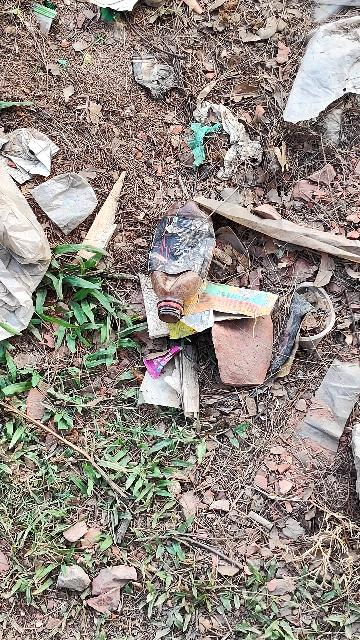bottle: (152, 200, 217, 328)
